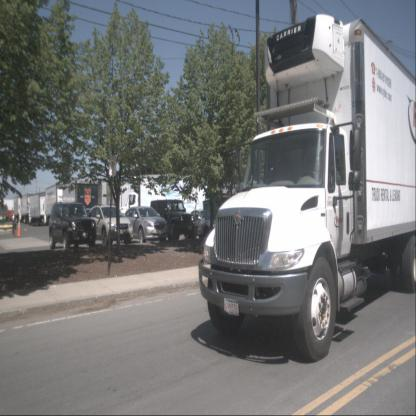movable_object-trafficcone: (16, 221, 22, 237)
vehicle-car: (48, 202, 96, 250), (85, 204, 134, 246), (150, 200, 198, 240), (120, 206, 167, 244), (186, 209, 220, 237)
vehicle-truck: (198, 14, 416, 362), (119, 173, 210, 231), (62, 183, 100, 233), (44, 184, 71, 226), (28, 193, 51, 226), (20, 194, 38, 224), (13, 196, 28, 222)
